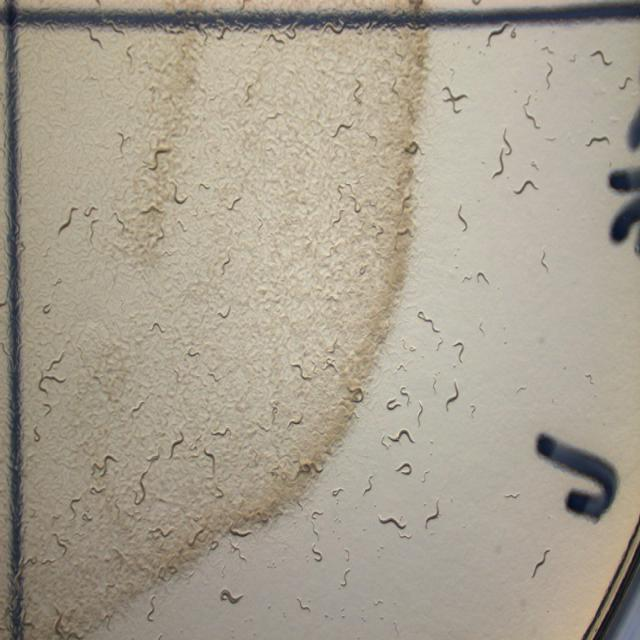filarid: (381, 404, 422, 449), (379, 514, 411, 539), (494, 132, 511, 177), (386, 385, 411, 412), (145, 148, 170, 170), (418, 310, 440, 334), (58, 207, 77, 234), (424, 497, 440, 529), (171, 180, 188, 204), (514, 179, 539, 195), (445, 384, 460, 410), (220, 587, 242, 604), (532, 551, 547, 575), (395, 454, 412, 475), (204, 447, 215, 475), (452, 340, 465, 362), (458, 204, 468, 228), (585, 137, 609, 147), (169, 440, 181, 458), (148, 596, 155, 620), (218, 307, 231, 319), (49, 377, 64, 384), (421, 469, 429, 481), (432, 374, 438, 388), (364, 480, 371, 491), (44, 404, 51, 413), (39, 382, 44, 390), (52, 360, 58, 363)
